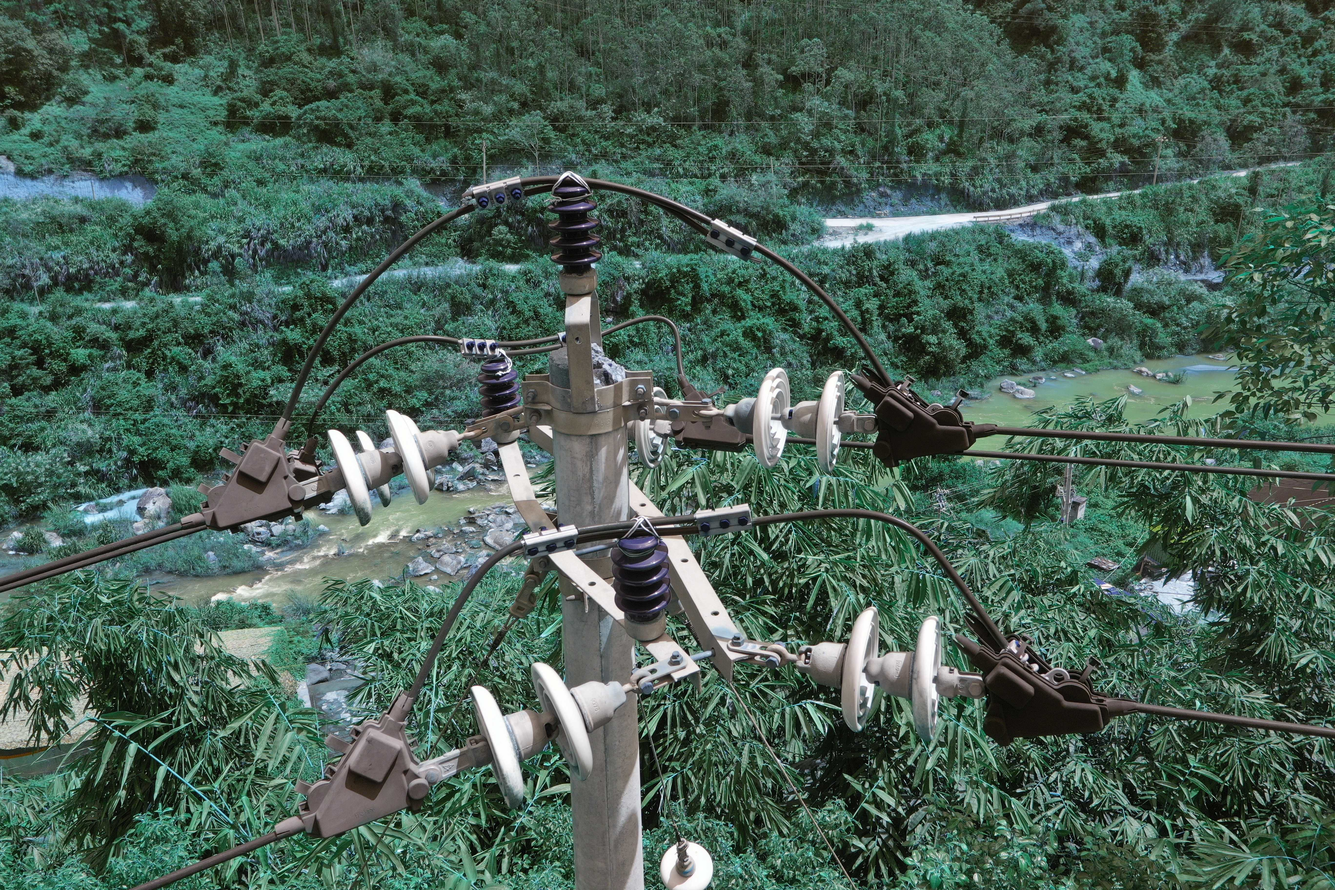severe_soiling_no_discharge_whole: (321, 398, 464, 529), (626, 380, 675, 473)
